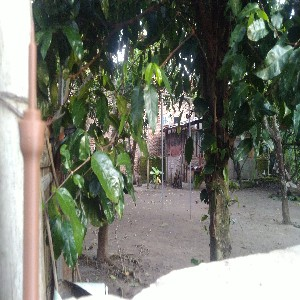solder: (17, 20, 48, 300)
